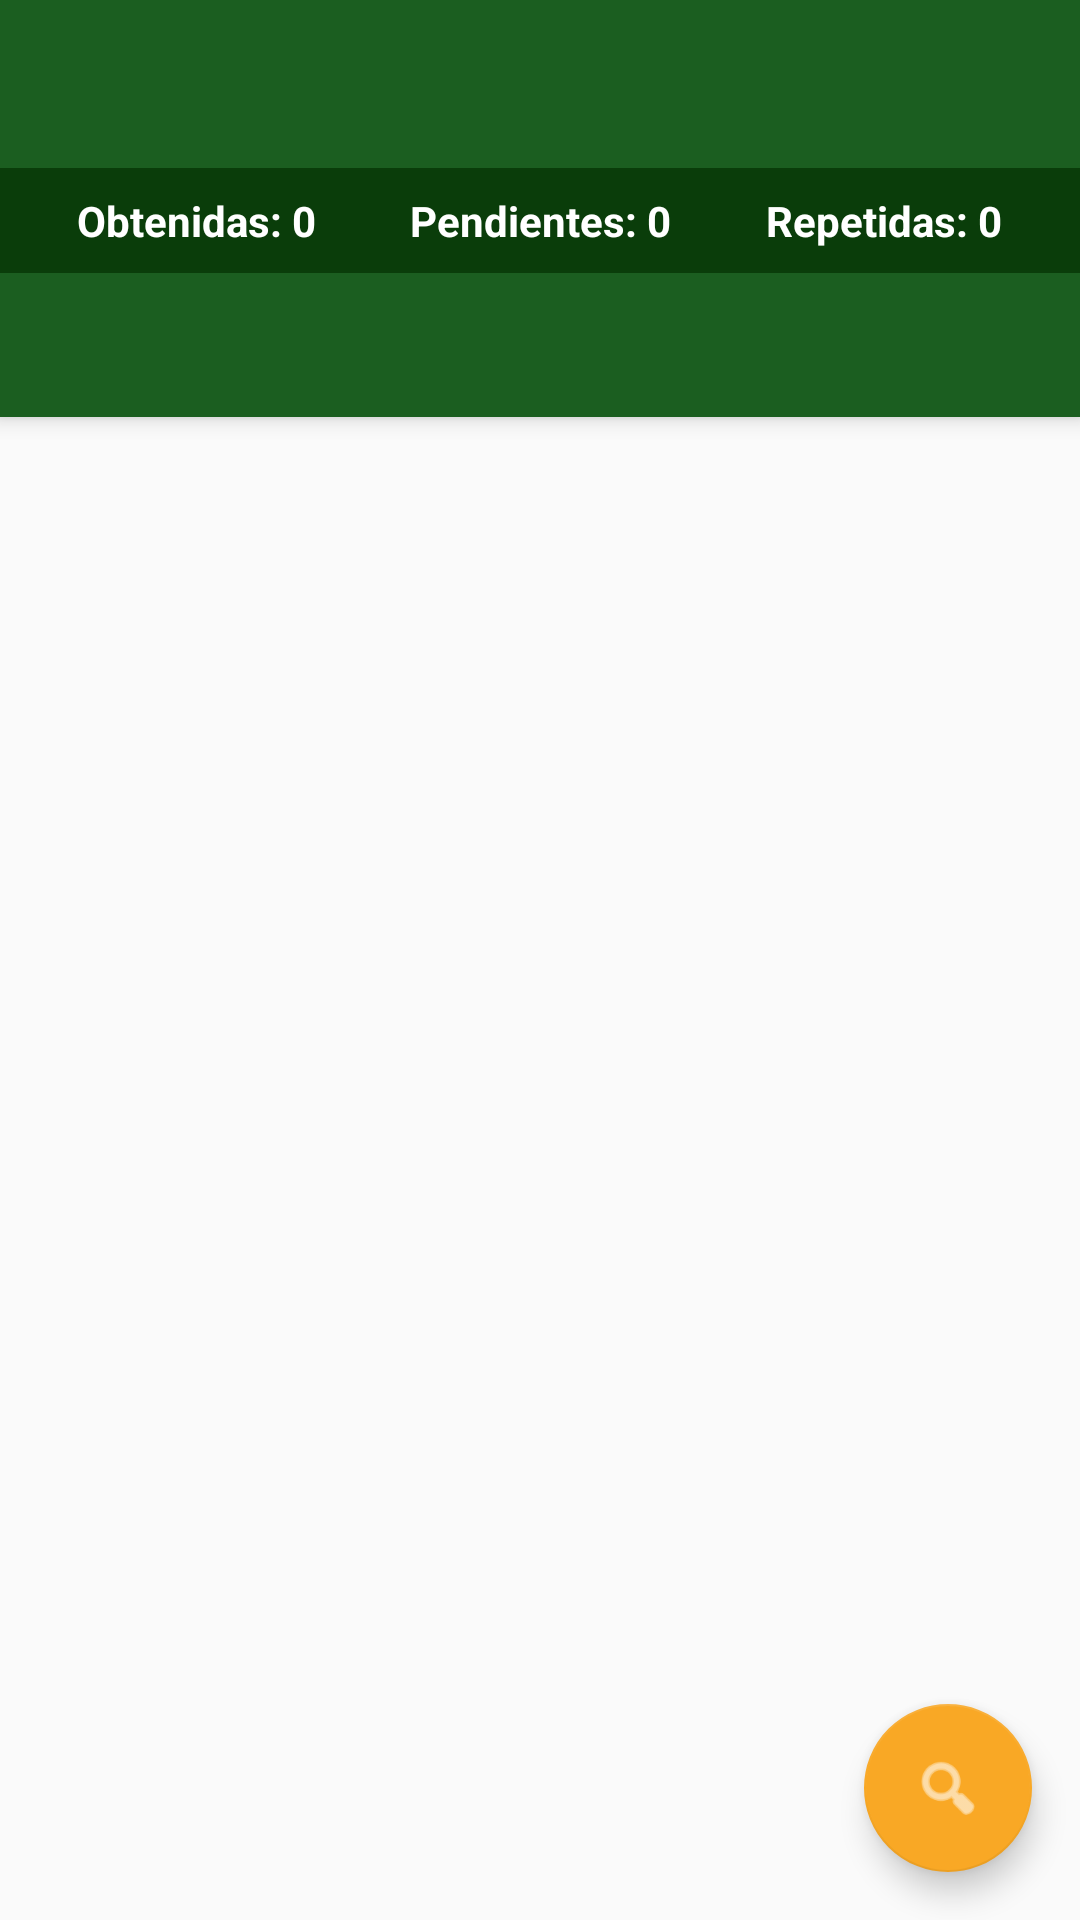

Named icons in this screenshot (1080px×1920px) and their centers, point (x, y):
Buscar jugador: point (948, 1788)
